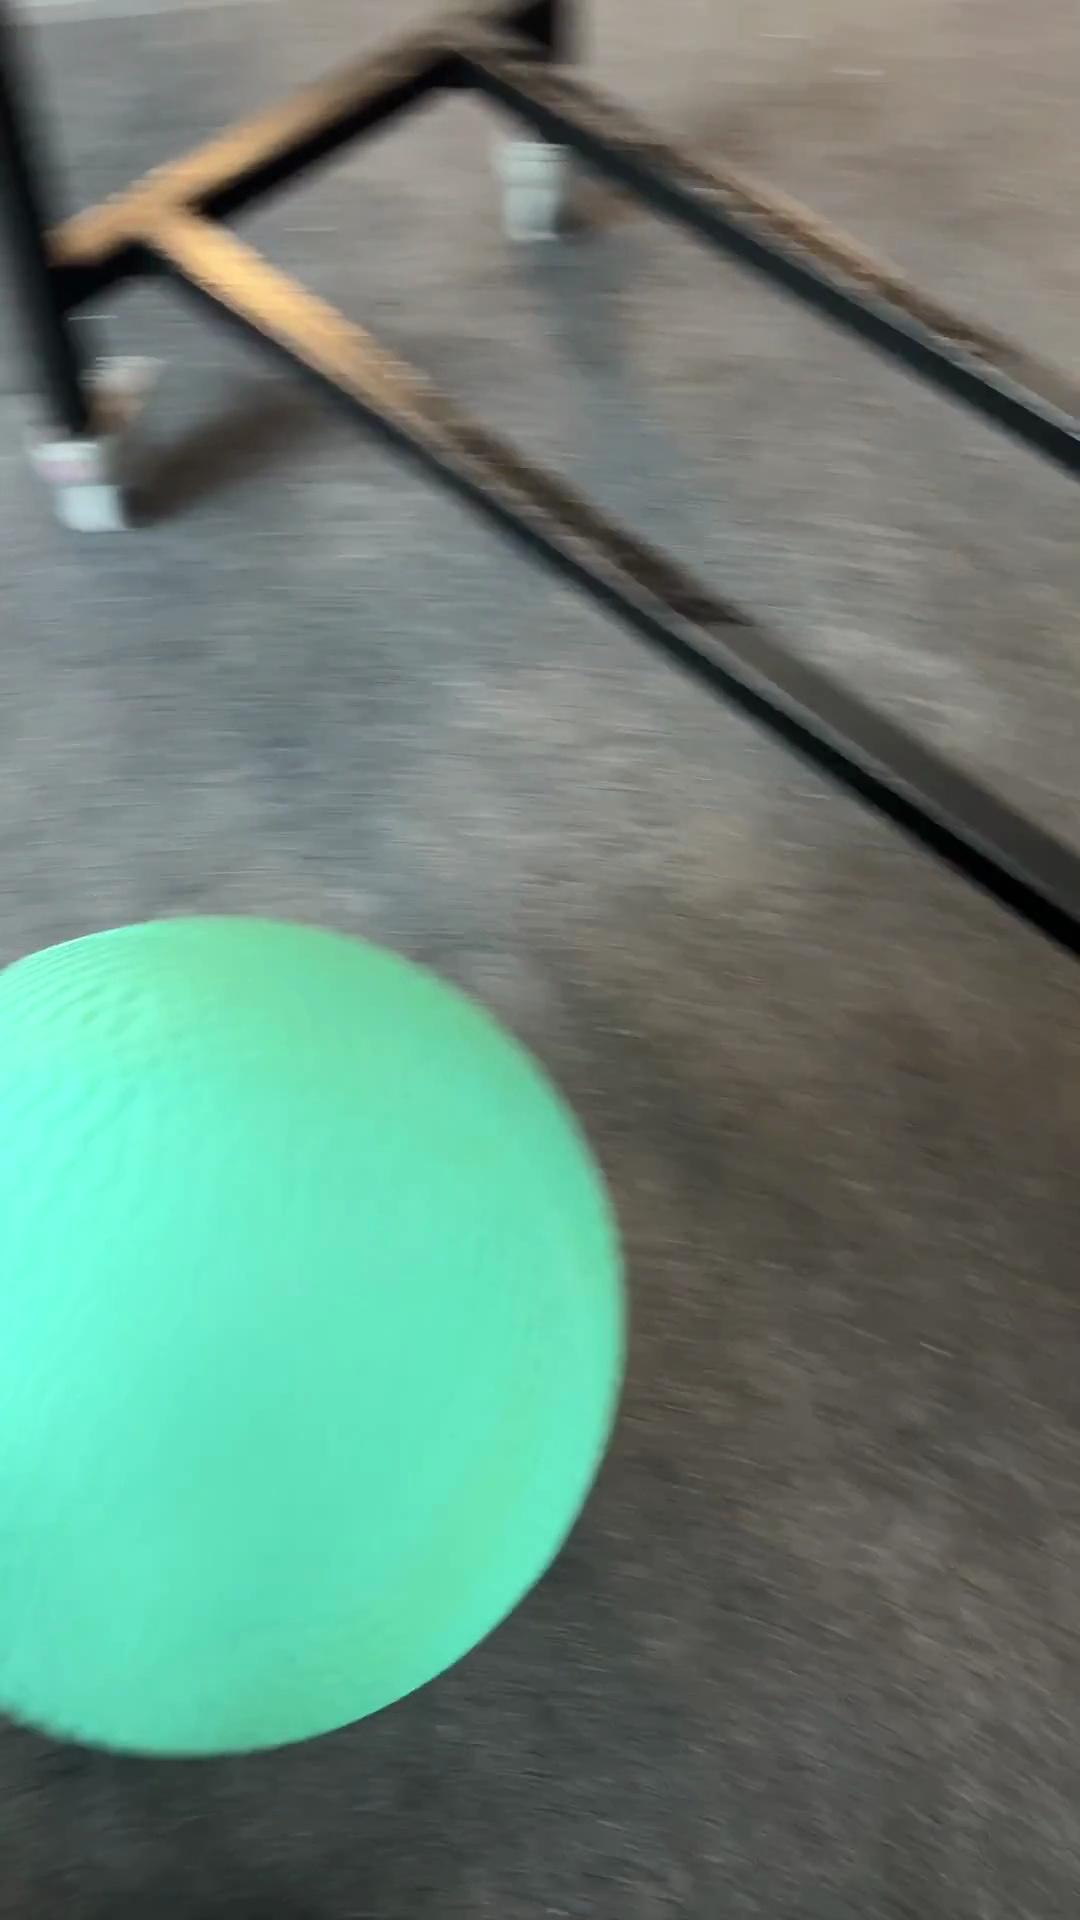ALGAE: (1, 910, 629, 1760)
